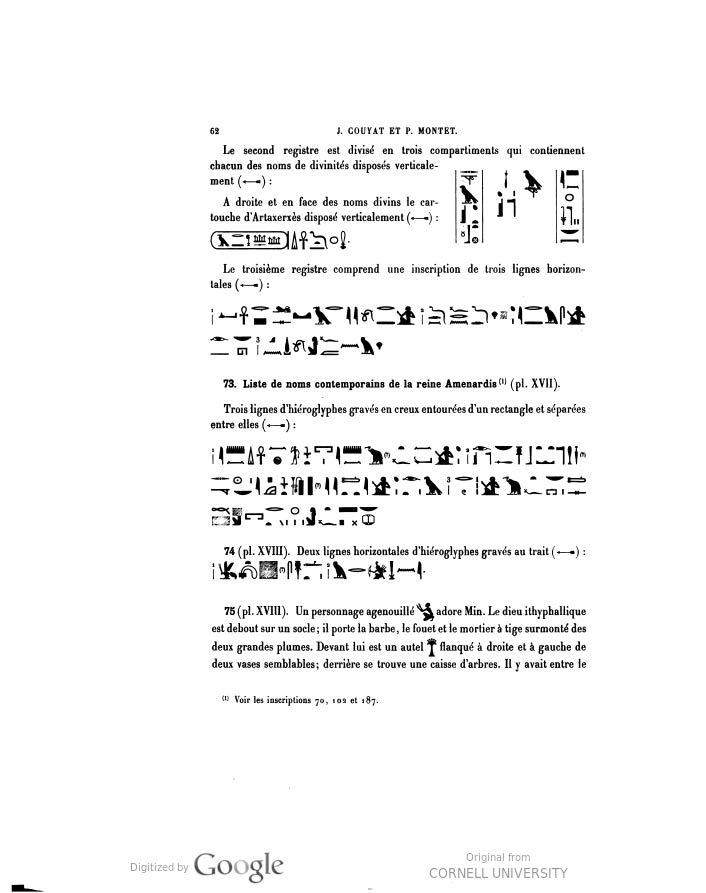circle: (198, 218, 303, 257)
